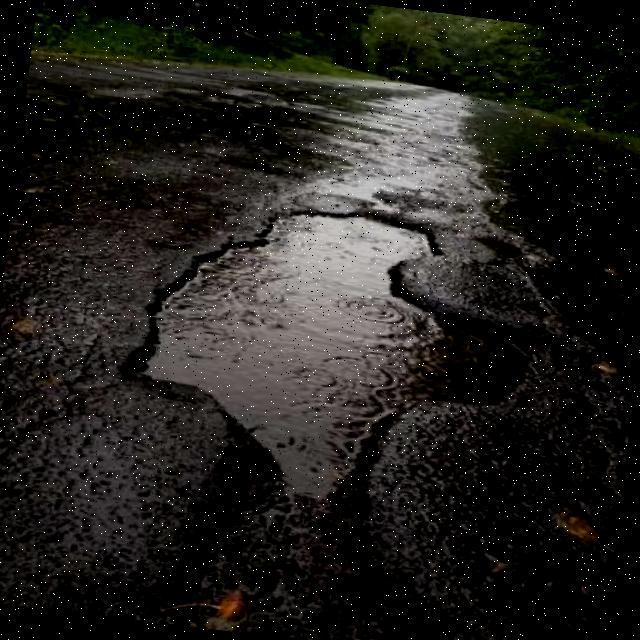Pothole: (121, 216, 529, 640)
